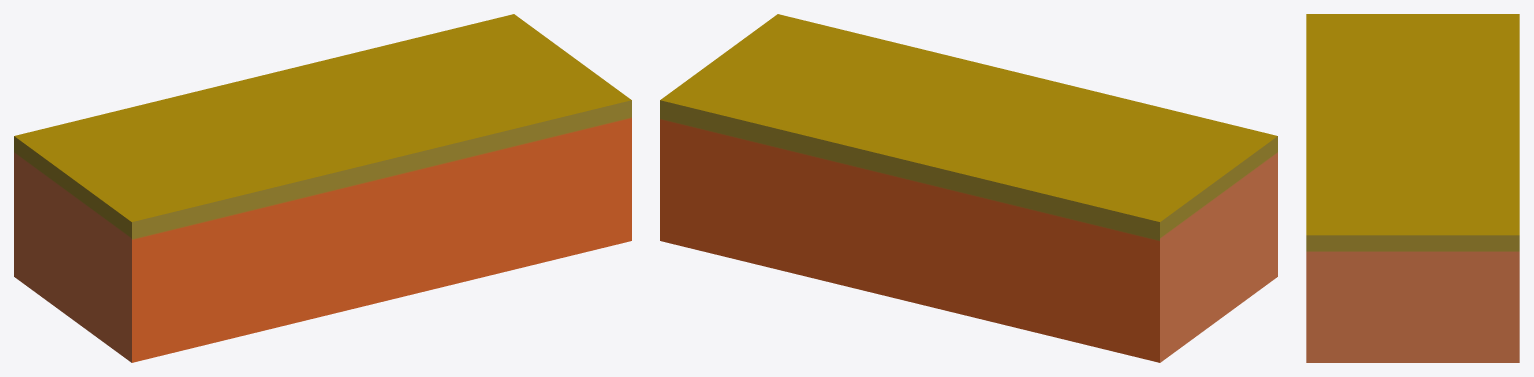
Rendered from Pedestal.fbx.
The picture shows the model from 3 angles, left to right: view 1: azimuth 30°, elevation 25°; view 2: azimuth 150°, elevation 25°; view 3: azimuth 270°, elevation 25°; orthographic projection. The views are drawn at different scales.
Visible parts, largest first — view 1: Cube; view 2: Cube; view 3: Cube.
Part boxes in pixels (left/top/right/bottom): Cube: left=14, top=14, right=631, bottom=362; Cube: left=660, top=14, right=1277, bottom=362; Cube: left=1306, top=14, right=1519, bottom=362.
Bounding box in the file's own units: 409 × 110 × 167.
1 material, 1 textured.
